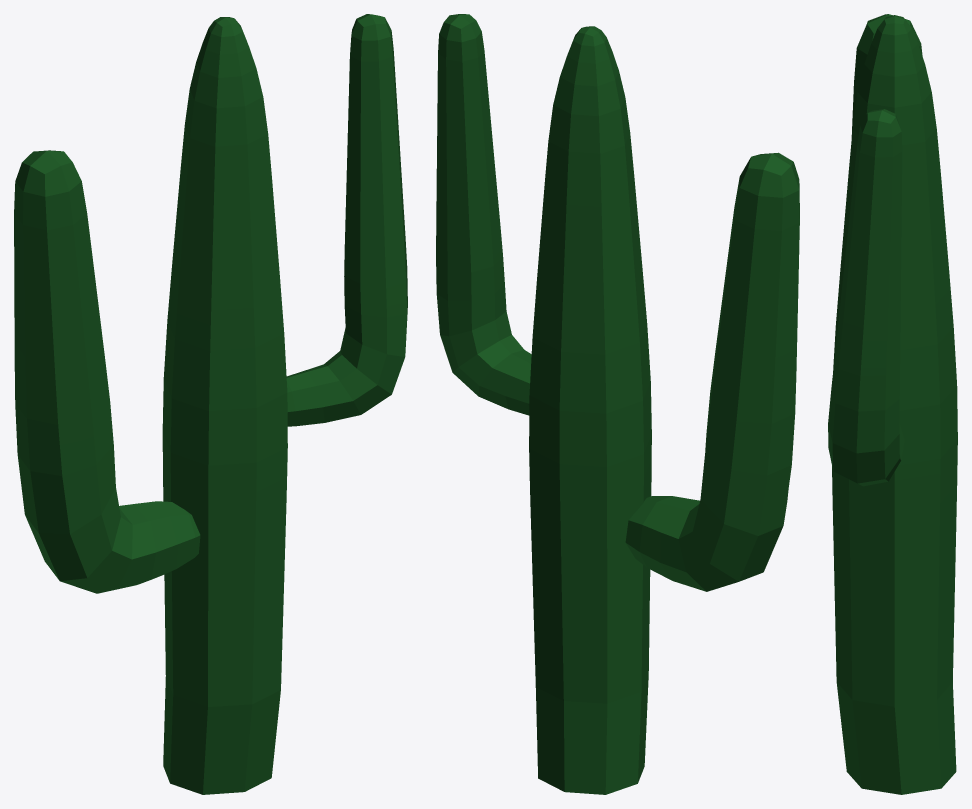
The model's file is cactus4.fbx.
3 views of the same model, side by side, from view 1: azimuth 30°, elevation 25°; view 2: azimuth 150°, elevation 25°; view 3: azimuth 270°, elevation 25° (orthographic). The views are drawn at different scales.
Visible parts, largest first — view 1: Plane.001; view 2: Plane.001; view 3: Plane.001.
Part boxes in pixels (box(x1,y1,x2,y2)): Plane.001: box(14, 14, 407, 794); Plane.001: box(436, 14, 799, 794); Plane.001: box(828, 14, 957, 794).
Size of the model in its own units: 176 by 341 by 52.96.
